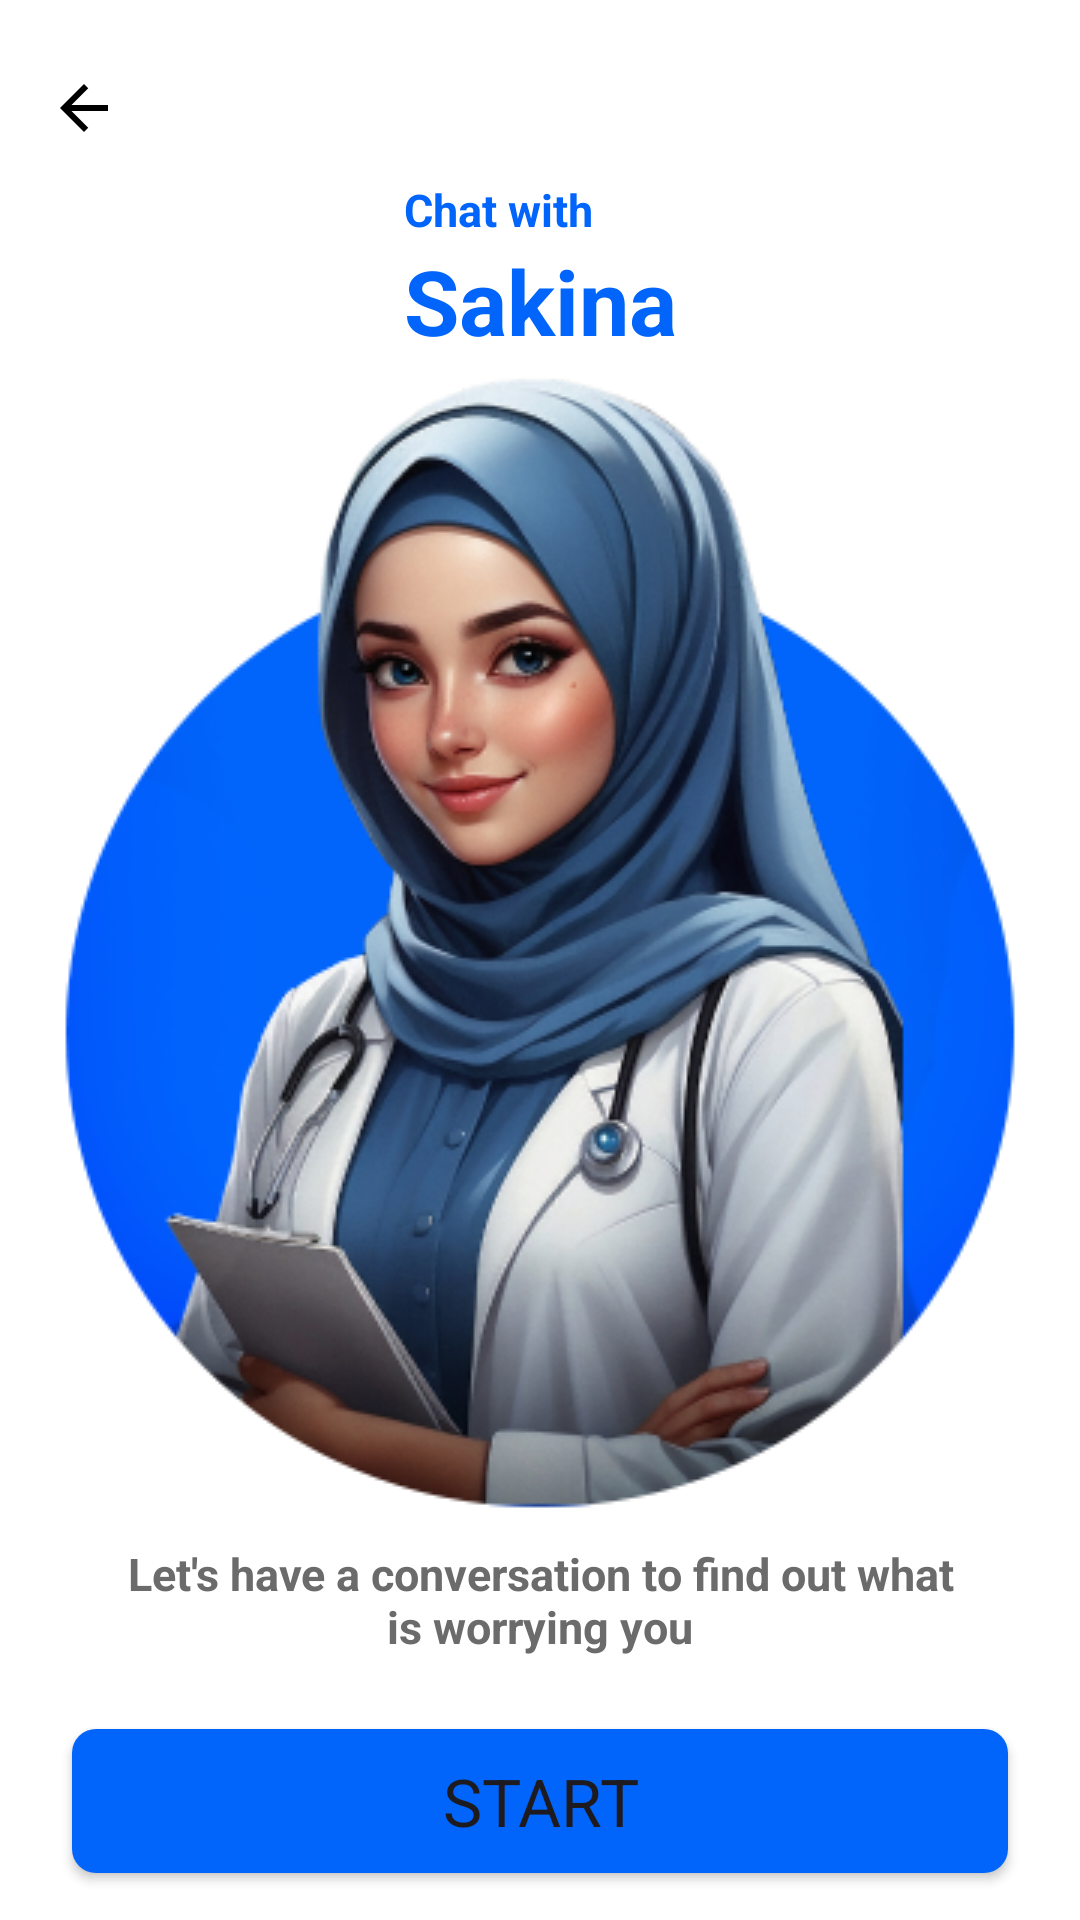

Named icons in this screenshot (1080x1920) and their centers, (x,y):
left arrow: (84,108)
